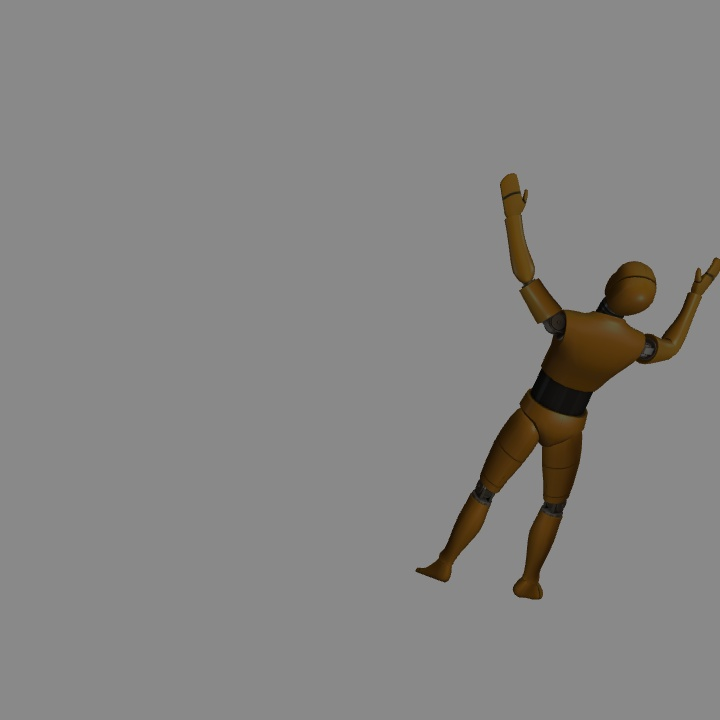victim: (425, 170, 720, 598)
